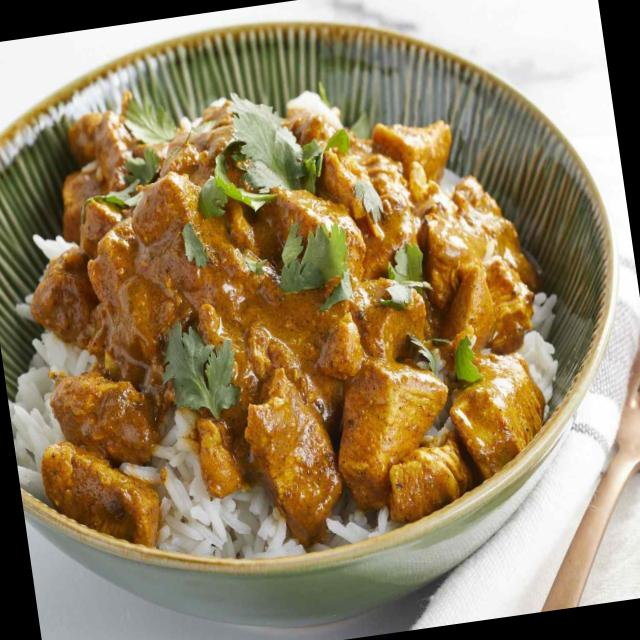chicken: (27, 108, 526, 519)
